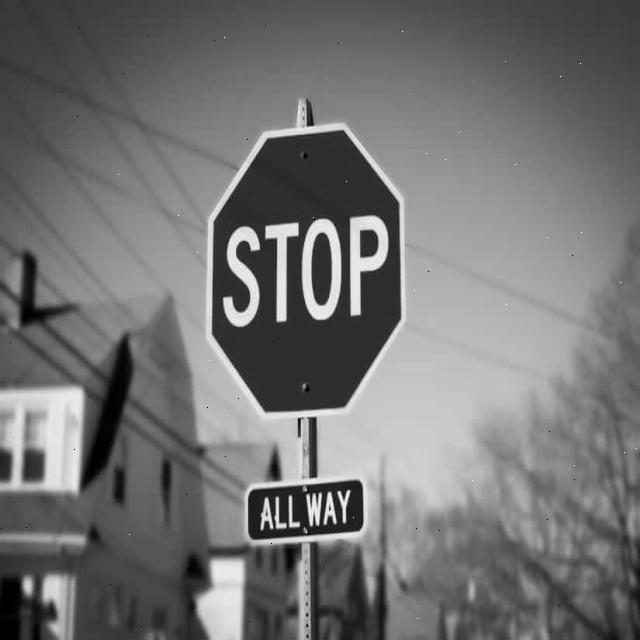Stop-sign: (190, 90, 430, 445)
